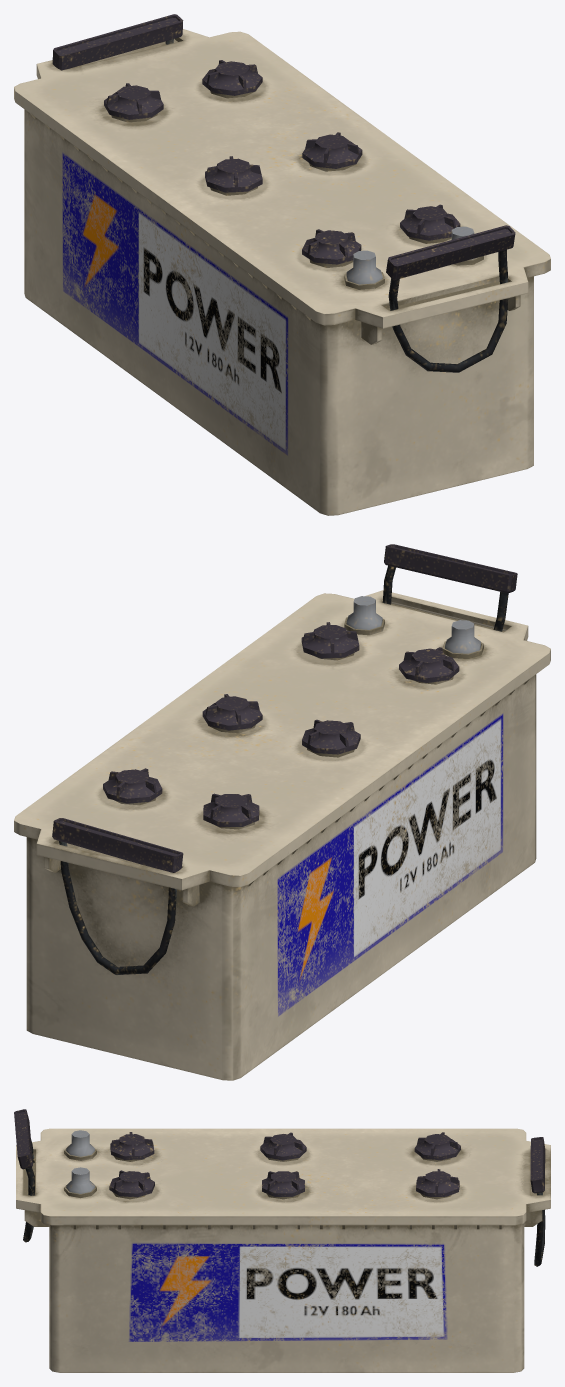
File: battery.glb
3 views of the same model, one above another, from view 1: azimuth 30°, elevation 25°; view 2: azimuth 150°, elevation 25°; view 3: azimuth 270°, elevation 25° (orthographic). The views are drawn at different scales.
Visible parts, largest first — view 1: Bottom, Lid, Lids, Handels, Ropes, Cointacts; view 2: Bottom, Lid, Lids, Handels, Ropes, Cointacts; view 3: Bottom, Lid, Lids, Handels, Cointacts, Ropes.
Boxes of the visible parts, x1,y1,x2,y2 form: Bottom: [24, 109, 533, 515]; Lid: [14, 29, 550, 328]; Lids: [104, 60, 460, 264]; Handels: [52, 14, 515, 280]; Ropes: [165, 39, 508, 372]; Cointacts: [346, 226, 474, 284]; Bottom: [26, 674, 536, 1080]; Lid: [14, 590, 550, 890]; Lids: [103, 622, 459, 826]; Handels: [52, 544, 517, 872]; Ropes: [59, 565, 508, 974]; Cointacts: [346, 596, 480, 653]; Bottom: [24, 1153, 542, 1372]; Lid: [16, 1128, 550, 1225]; Lids: [109, 1132, 460, 1197]; Handels: [14, 1109, 545, 1193]; Cointacts: [66, 1130, 94, 1193]; Ropes: [23, 1139, 545, 1266].
Bounding box in the file's own units: 60 × 64.19 × 155.
Materials: 1 (1 with a texture image).
